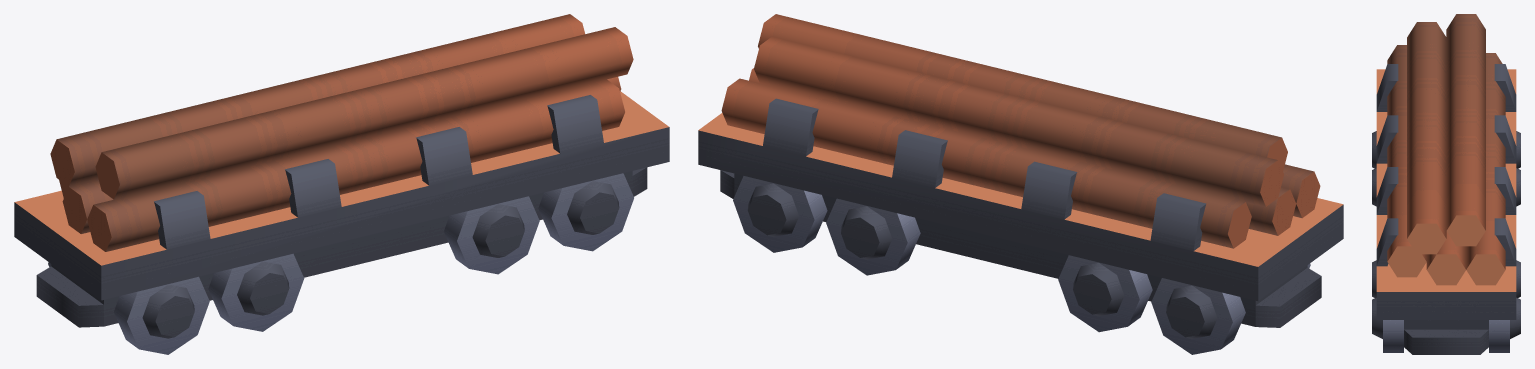
Rendered from train-wagon-logs.glb.
The picture shows the model from 3 angles, left to right: view 1: azimuth 30°, elevation 25°; view 2: azimuth 150°, elevation 25°; view 3: azimuth 270°, elevation 25°; orthographic projection. The views are drawn at different scales.
Visible parts, largest first — view 1: train-wagon-logs; view 2: train-wagon-logs; view 3: train-wagon-logs.
Part boxes in pixels (bbox=[...]): train-wagon-logs: bbox=[14, 14, 669, 354]; train-wagon-logs: bbox=[698, 14, 1343, 354]; train-wagon-logs: bbox=[1372, 14, 1520, 354].
Bounding box in the file's own units: 2.07 × 0.6504 × 0.5848.
1 material, 1 textured.
